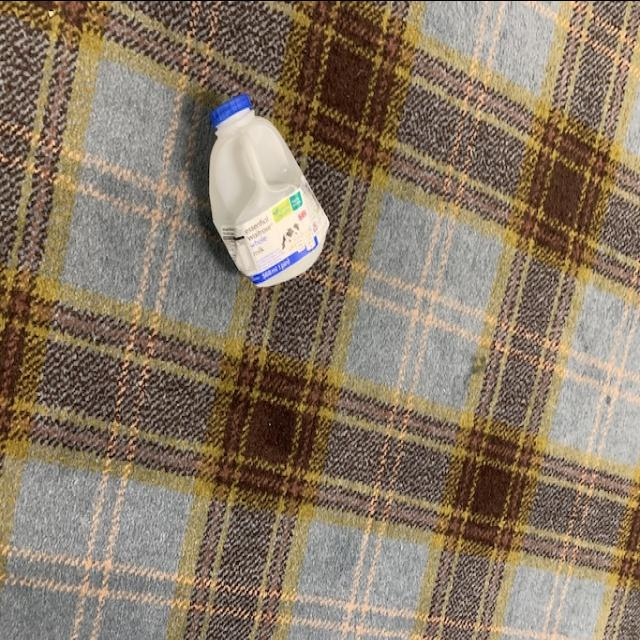litter: (198, 90, 338, 294)
